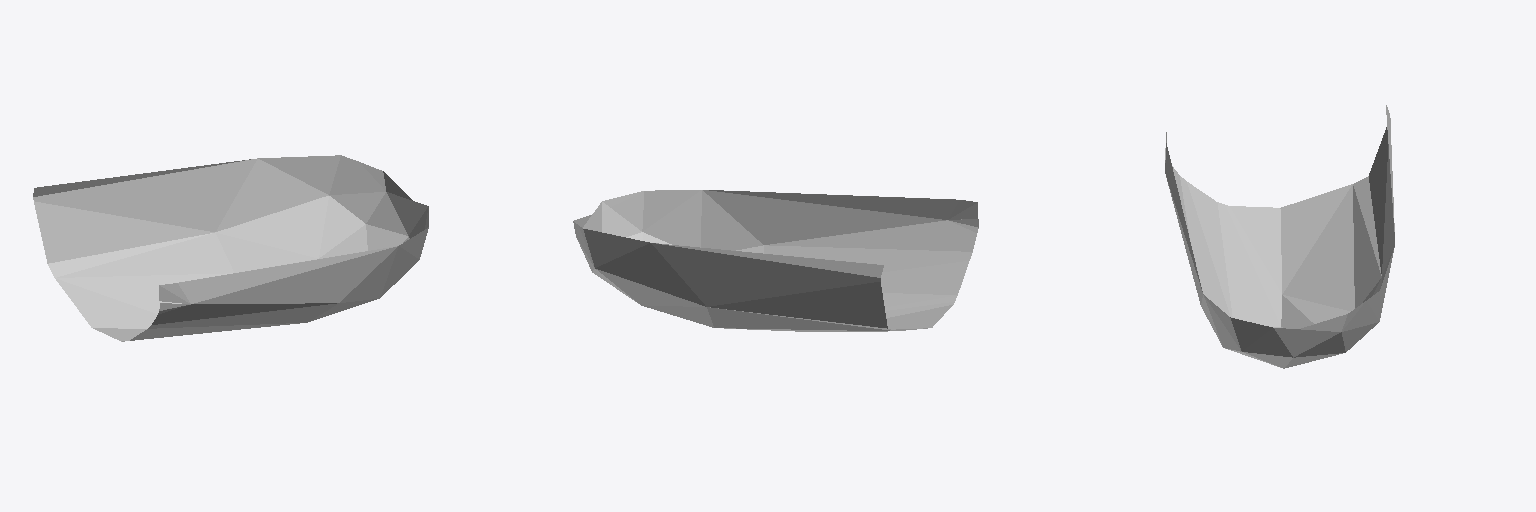
The model's file is HAND_new_31.obj.
3 views of the same model, side by side, from view 1: azimuth 30°, elevation 25°; view 2: azimuth 150°, elevation 25°; view 3: azimuth 270°, elevation 25° (orthographic).
Bounding box in the file's own units: 16.93 × 6.76 × 9.99.